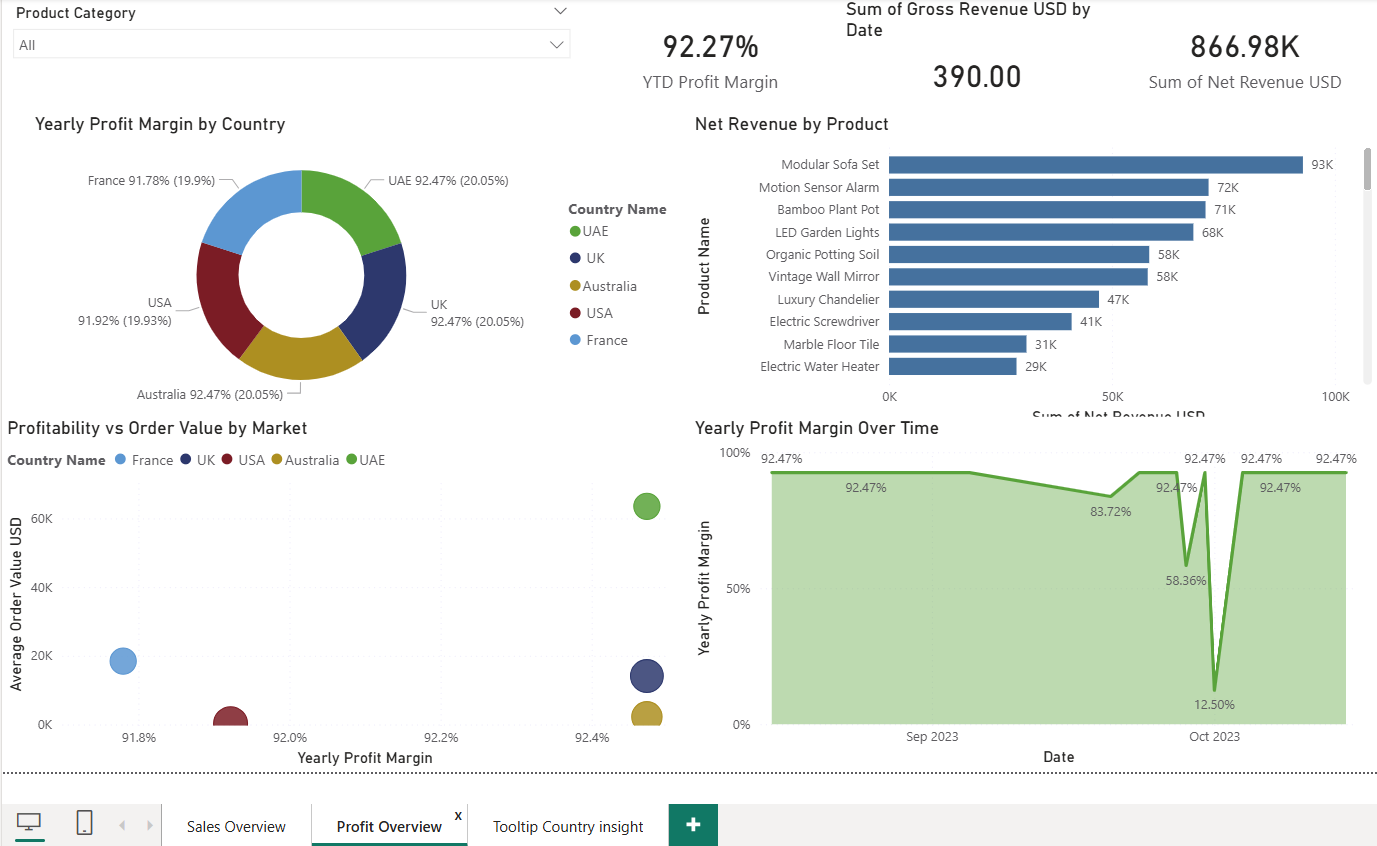

This screenshot's page, from the dashboard's own definition file:
{"tool":"powerbi","page":{"name":"Profit Overview","canvas":[1280,720],"ordinal":1},"visuals":[{"type":"clusteredBarChart","title":"Net Revenue by Product","fields":{"Y":["Sum(Sales in USD.Net Revenue USD)"],"Category":["Sales in USD.Product Name"]},"box":[640,107.1,640,295.7],"z":0},{"type":"donutChart","title":"Yearly Profit Margin by Country","fields":{"Category":["Sales in USD.Country Name"],"Y":["Sales in USD.Yearly Profit Margin"]},"box":[25.7,107.1,614.3,282.9],"z":1000},{"type":"areaChart","title":"Yearly Profit Margin Over Time","fields":{"Y":["Sales in USD.Yearly Profit Margin"],"Category":["CalendarTable.Date"]},"box":[640,390,640,330],"z":2000},{"type":"card","fields":{"Values":["Sales in USD.YTD Profit Margin","select"]},"box":[538.5,0,241.8,106.9],"z":3000},{"type":"card","fields":{"Values":["Sum(Sales in USD.Net Revenue USD)"]},"box":[1034.2,0,245.8,106.9],"z":4000},{"type":"kpi","fields":{"Indicator":["Sum(Sales in USD.Gross Revenue USD)"],"TrendLine":["CalendarTable.Date"]},"box":[780.3,0,253.9,106.9],"z":5000},{"type":"slicer","fields":{"Values":["Sales.Product Category"]},"box":[0,0,538.6,107.1],"z":6000},{"type":"scatterChart","title":"Profitability vs Order Value by Market","fields":{"X":["Sales in USD.Yearly Profit Margin"],"Size":["CountNonNull(Sales in USD.Net Revenue USD)"],"Series":["Sales in USD.Country Name"],"Y":["Sales in USD.Average Order Value USD"]},"box":[0,390,640,330],"z":6001}]}

Visuals, with their boxes on the page's 1280x720 design canvas (x1, y1, x2, y2). These are canvas units, not pixel positions in the 1377x846 screenshot, which may show the page scaled, cropped or inside an application window:
"Net Revenue by Product" clusteredBarChart: {"x1": 640, "y1": 107, "x2": 1280, "y2": 403}
"Yearly Profit Margin by Country" donutChart: {"x1": 26, "y1": 107, "x2": 640, "y2": 390}
"Yearly Profit Margin Over Time" areaChart: {"x1": 640, "y1": 390, "x2": 1280, "y2": 720}
card - Sales in USD.YTD Profit Margin x select: {"x1": 538, "y1": 0, "x2": 780, "y2": 107}
card - Sum(Sales in USD.Net Revenue USD): {"x1": 1034, "y1": 0, "x2": 1280, "y2": 107}
kpi - Sum(Sales in USD.Gross Revenue USD) x CalendarTable.Date: {"x1": 780, "y1": 0, "x2": 1034, "y2": 107}
slicer - Sales.Product Category: {"x1": 0, "y1": 0, "x2": 539, "y2": 107}
"Profitability vs Order Value by Market" scatterChart: {"x1": 0, "y1": 390, "x2": 640, "y2": 720}
